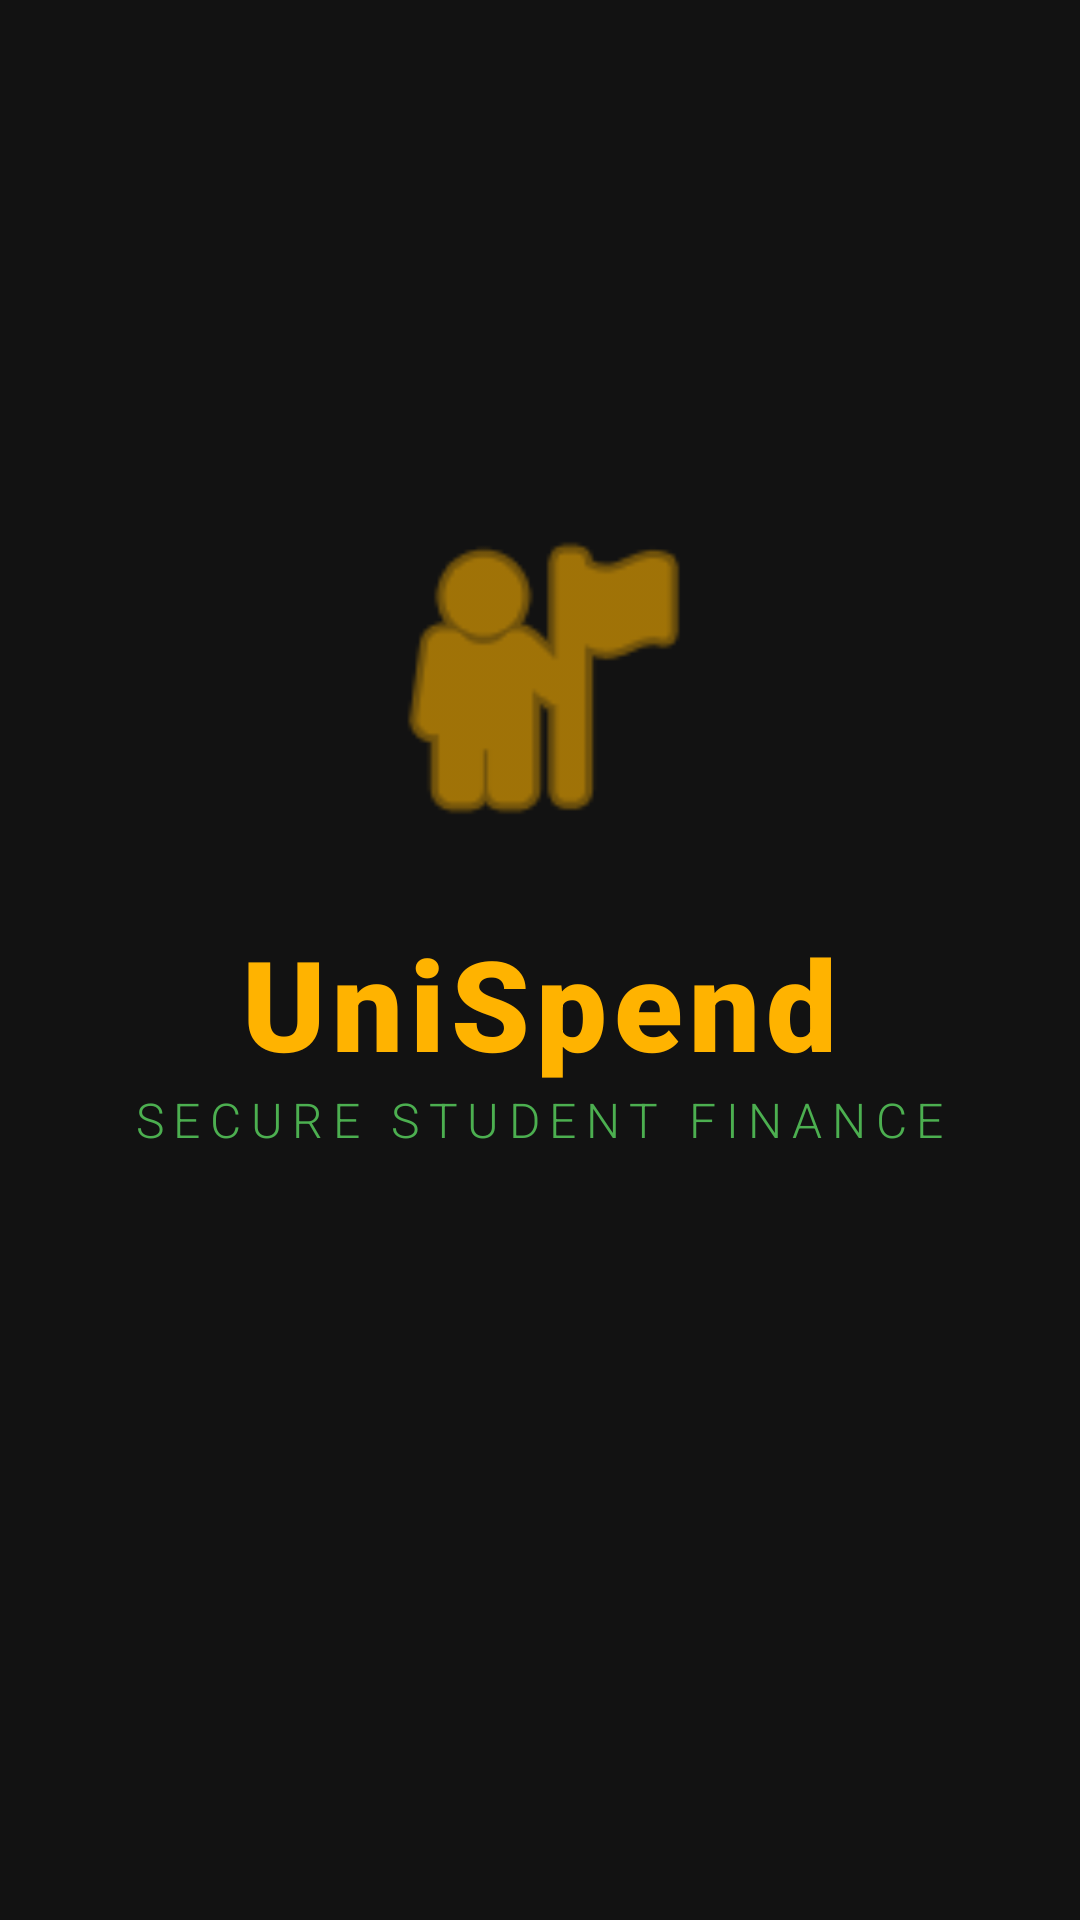

Screen size 1080px×1920px. Icon name, then its center in pixels as (x,y):
myplaces: (543,678)
